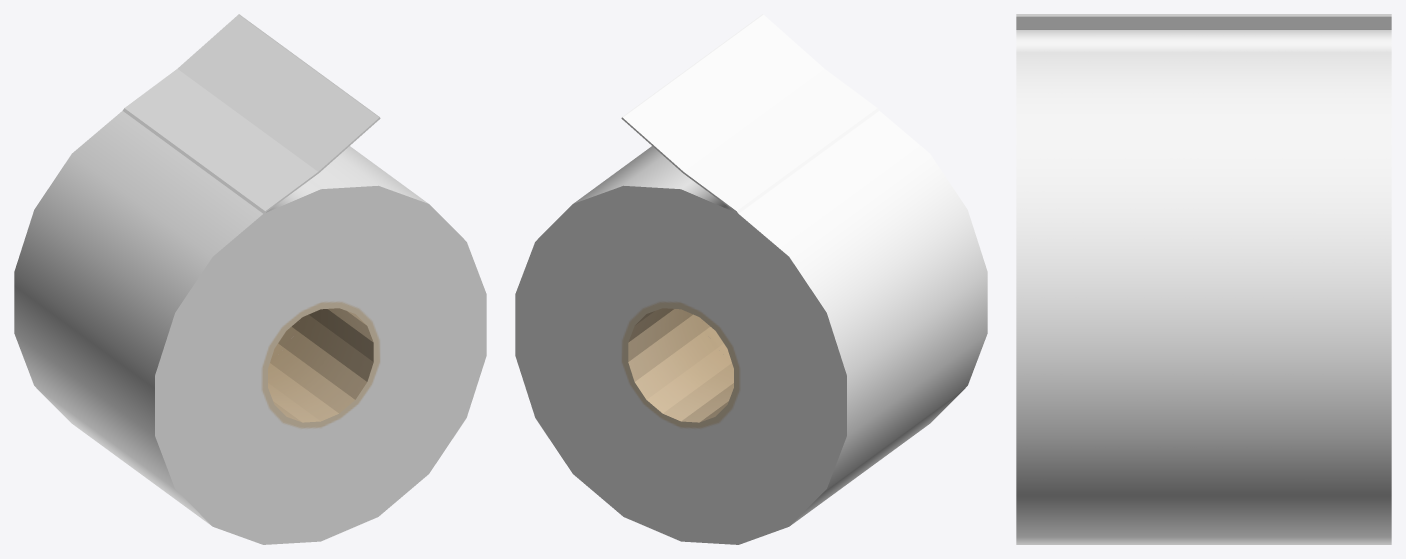
Rendered from ENV2010077.fbx.
The picture shows the model from 3 angles, left to right: view 1: azimuth 30°, elevation 25°; view 2: azimuth 150°, elevation 25°; view 3: azimuth 270°, elevation 25°; orthographic projection. The views are drawn at different scales.
Parts seen in each view (by area): view 1: smENV2010077; view 2: smENV2010077; view 3: smENV2010077.
Part boxes in pixels (x1,y1,x2,y2): smENV2010077: (14,14,486,544); smENV2010077: (515,14,987,544); smENV2010077: (1016,14,1391,544).
Size of the model in its own units: 8.17 by 9.66 by 6.01.
1 material, 1 textured.
